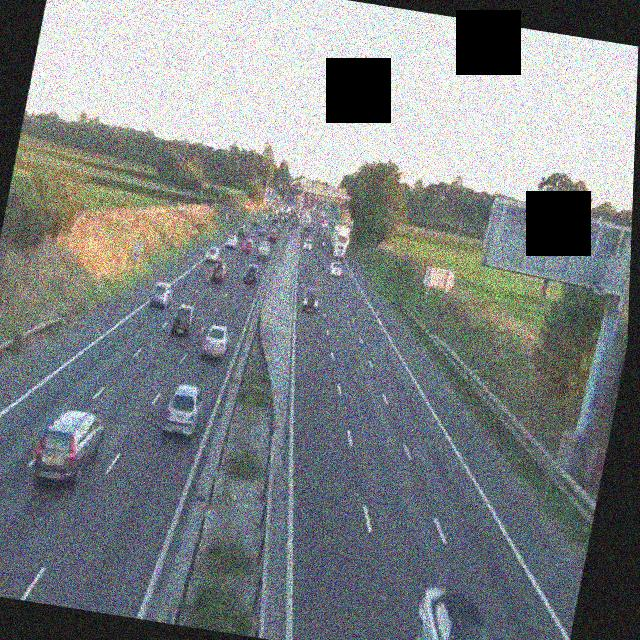car: (409, 583, 522, 640), (30, 406, 106, 490), (161, 382, 207, 439), (200, 322, 232, 360), (169, 303, 197, 338), (148, 280, 176, 311), (299, 285, 322, 315), (243, 262, 261, 286), (210, 260, 228, 284), (204, 244, 221, 264), (328, 258, 344, 277), (256, 242, 271, 260), (242, 238, 255, 255), (227, 230, 240, 247), (269, 228, 281, 242), (302, 237, 313, 251), (244, 220, 255, 233), (0, 539, 1, 595)
truck: (329, 222, 352, 264)
